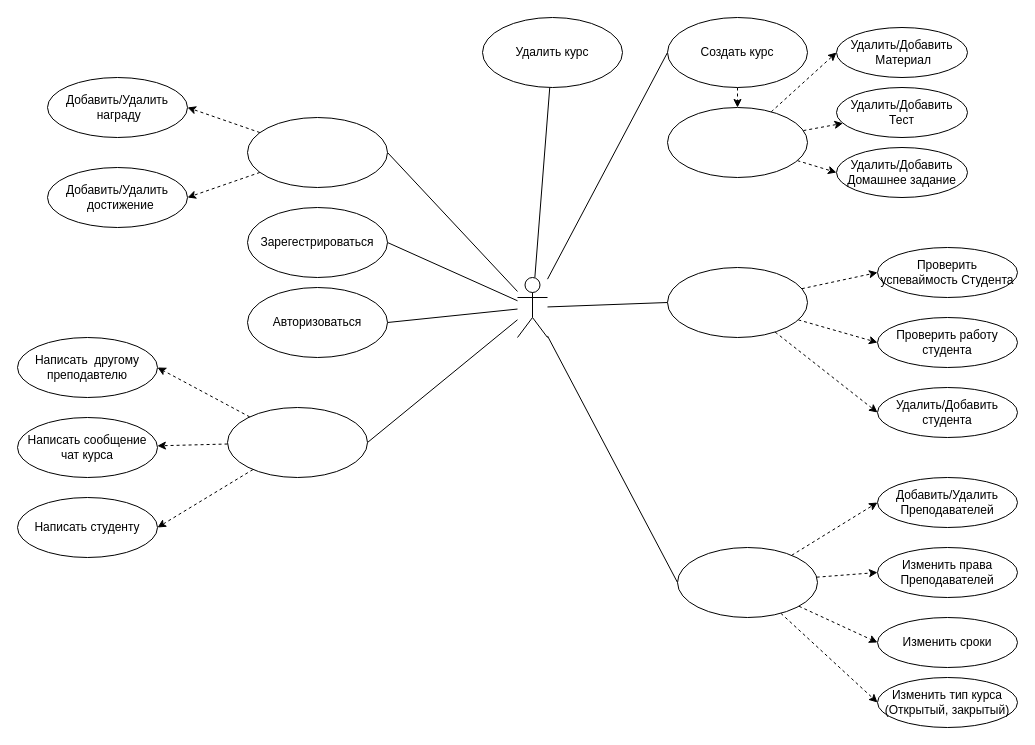
Image size: 1035x745. Some labels were removed from this diagram. Here are the shapes that lost their labels. From the top down, the centre of each, then its label:
point 317,152: Управление геймификацией
point 737,142: Изменить содержание и структуру
point 532,307: Автор курса
point 737,302: Управлять студентами курса
point 297,442: Использовать чат
point 747,582: Настроить курс
